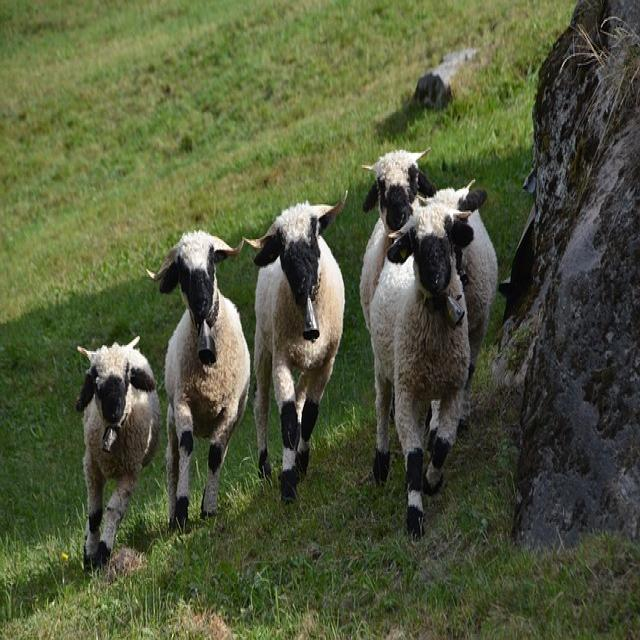goat: (370, 189, 470, 539), (152, 231, 252, 527), (253, 201, 343, 504), (75, 340, 160, 569)
